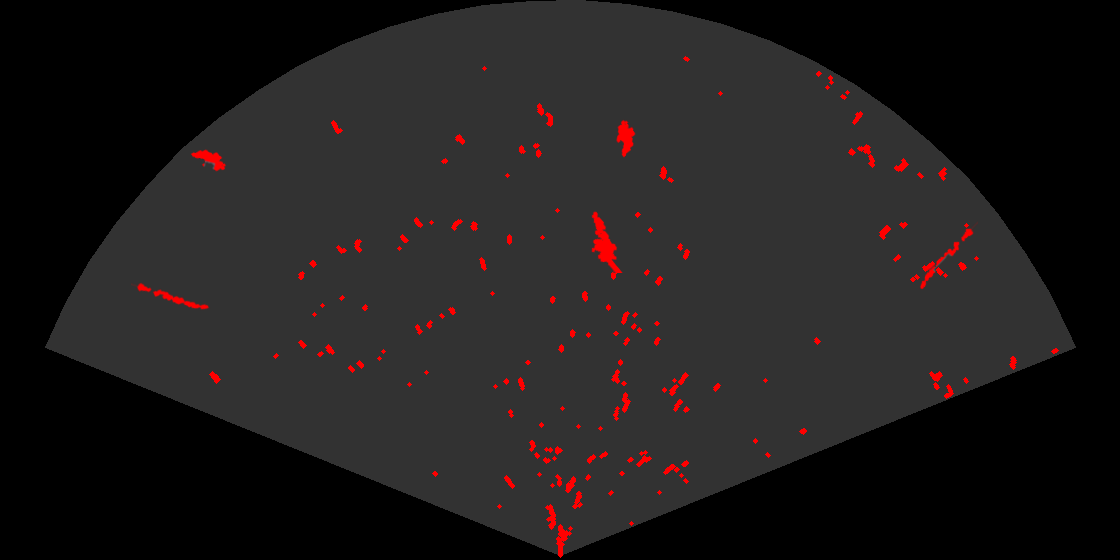AUV: (189, 148, 228, 173), (615, 118, 637, 159)
chain: (918, 220, 978, 291), (131, 281, 211, 311)
frogman: (590, 210, 624, 273)
